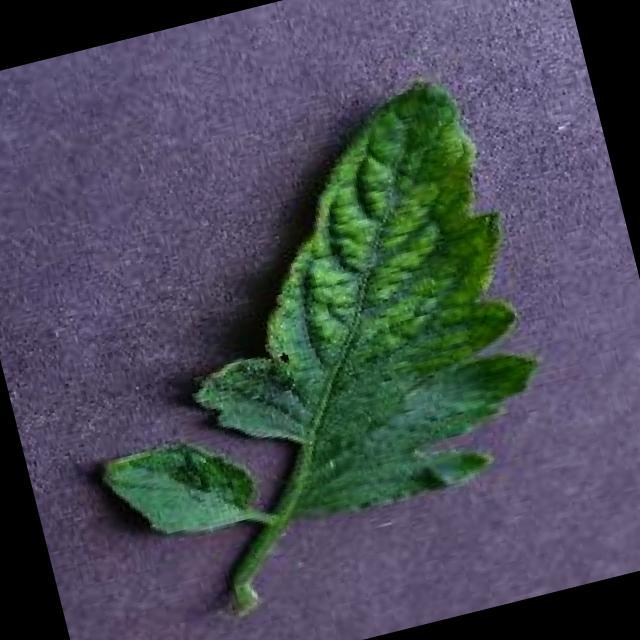Tomato mosaic virus leaf: (133, 68, 562, 550), (91, 416, 268, 556)
